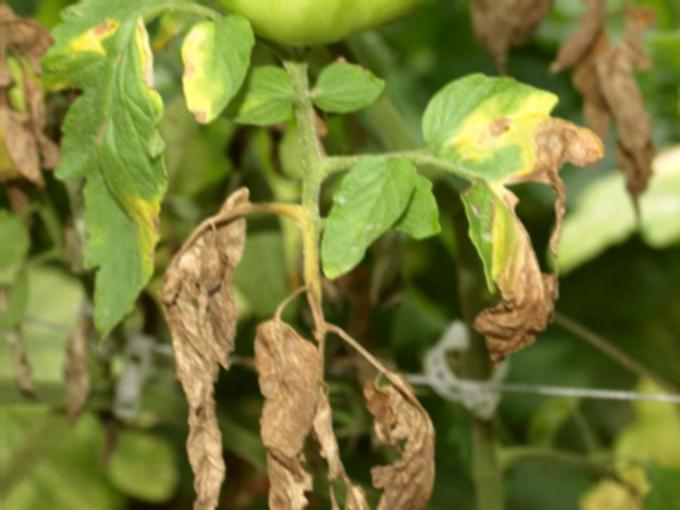Tomato Early blight leaf: (30, 20, 161, 349), (418, 58, 606, 184), (168, 4, 258, 135)
Tomato leaf: (311, 159, 424, 280)
